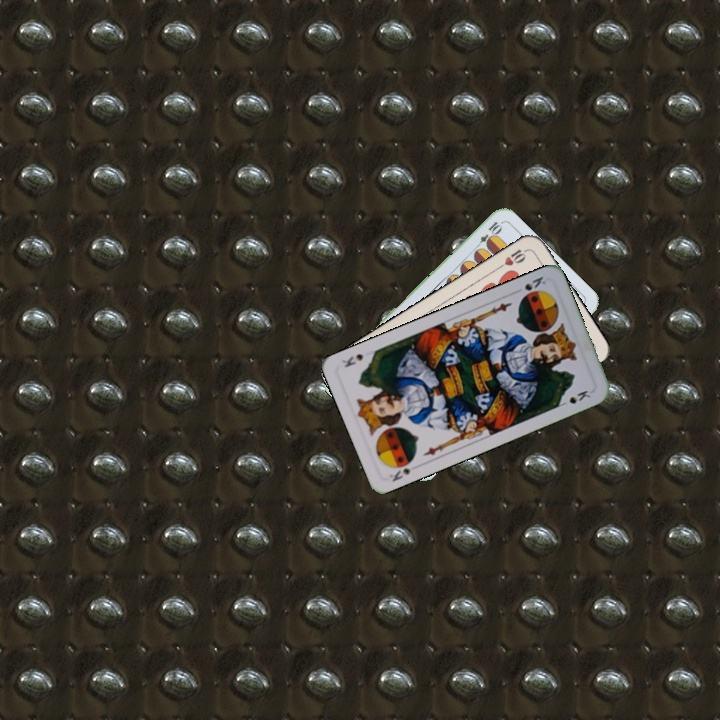E10: (471, 217, 504, 252)
H10: (493, 244, 530, 272)
SK: (520, 272, 548, 293), (386, 464, 414, 484)
